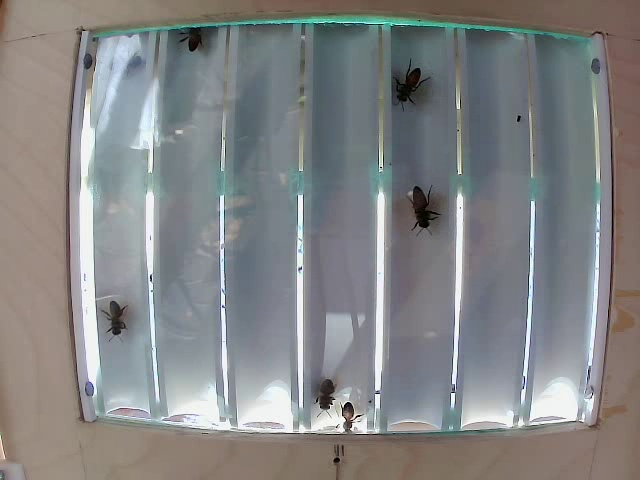bee: (178, 20, 234, 84), (409, 178, 450, 236), (391, 71, 418, 136), (102, 295, 133, 344), (338, 395, 367, 433), (315, 378, 339, 421)
